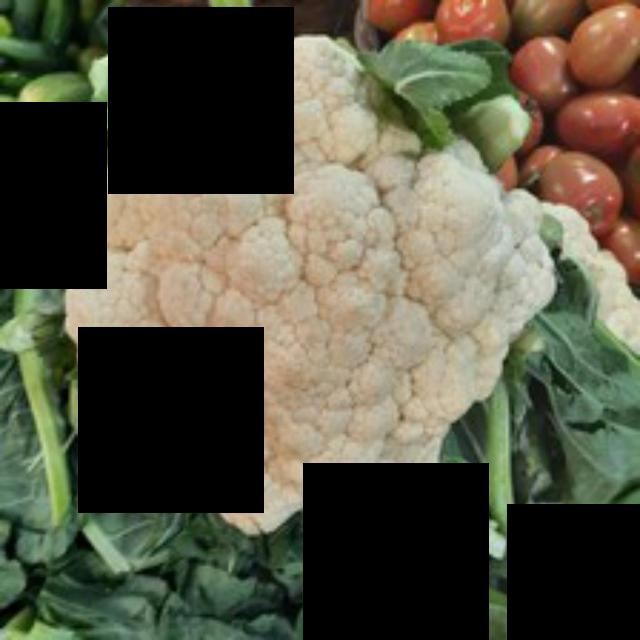cauliflower: (62, 48, 574, 531)
